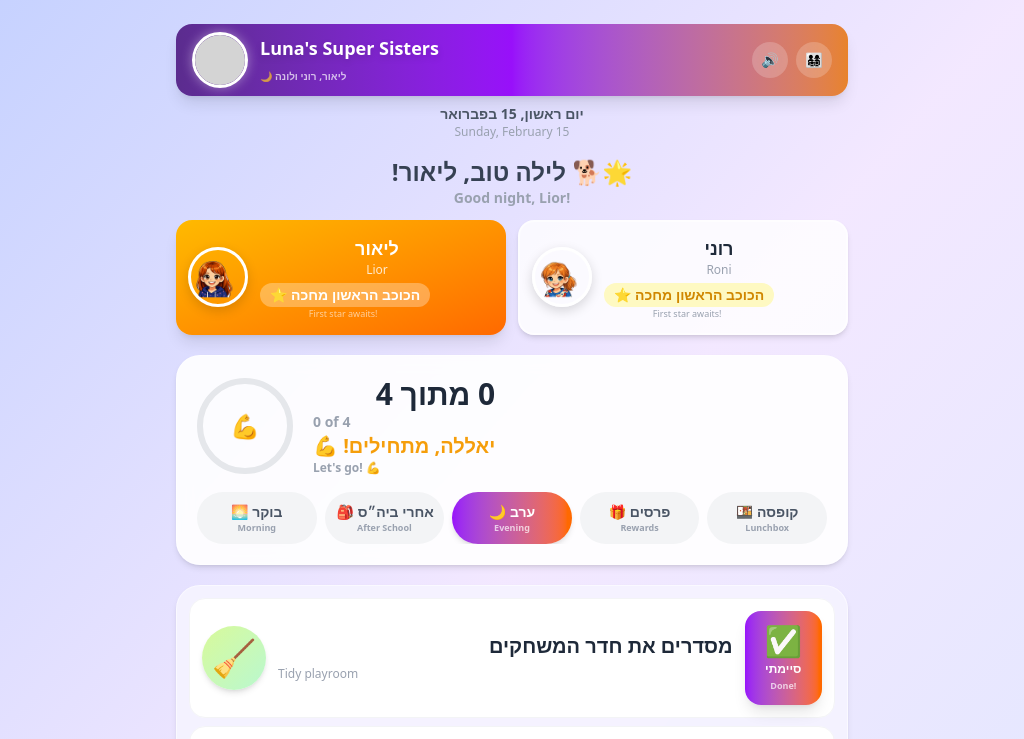
Test case: App › switches between tabs
The image size is (1024, 739).
# Click afternoon tab
Click the text "🎒 אחרי ביה״ס". click: coordinates (384, 512)
box: [337,502,432,522]
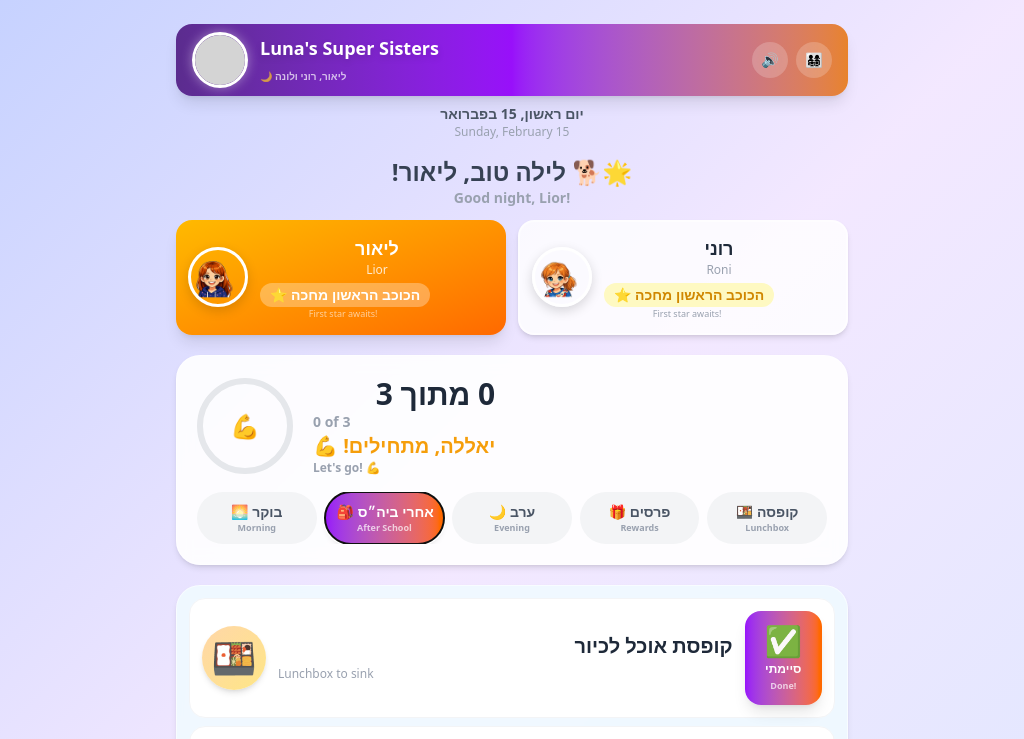
Expected: the text "Lunchbox to sink" is shown, [278,665,374,682]
# Click evening tab
Click the text "🌙 ערב". click: coordinates (512, 511)
box: [489,502,535,520]
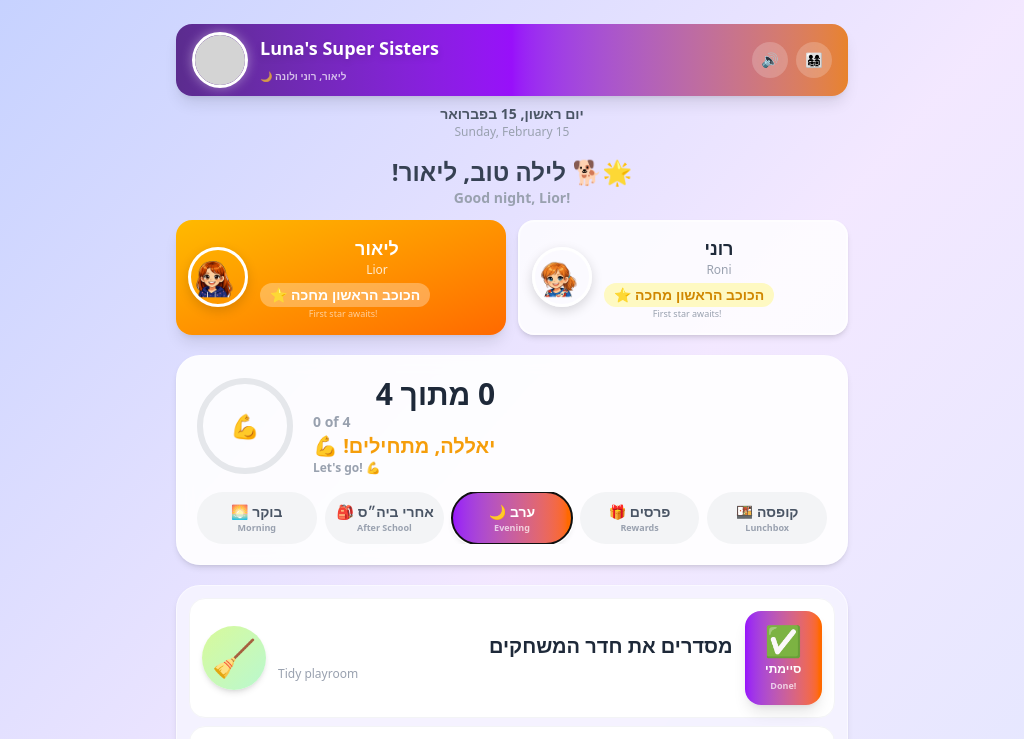
Expected: the text "Tidy playroom" is shown, [278,665,358,682]
# Click rewards tab
Click the text "🎁 פרסים". click: coordinates (640, 511)
box: [609,502,670,520]
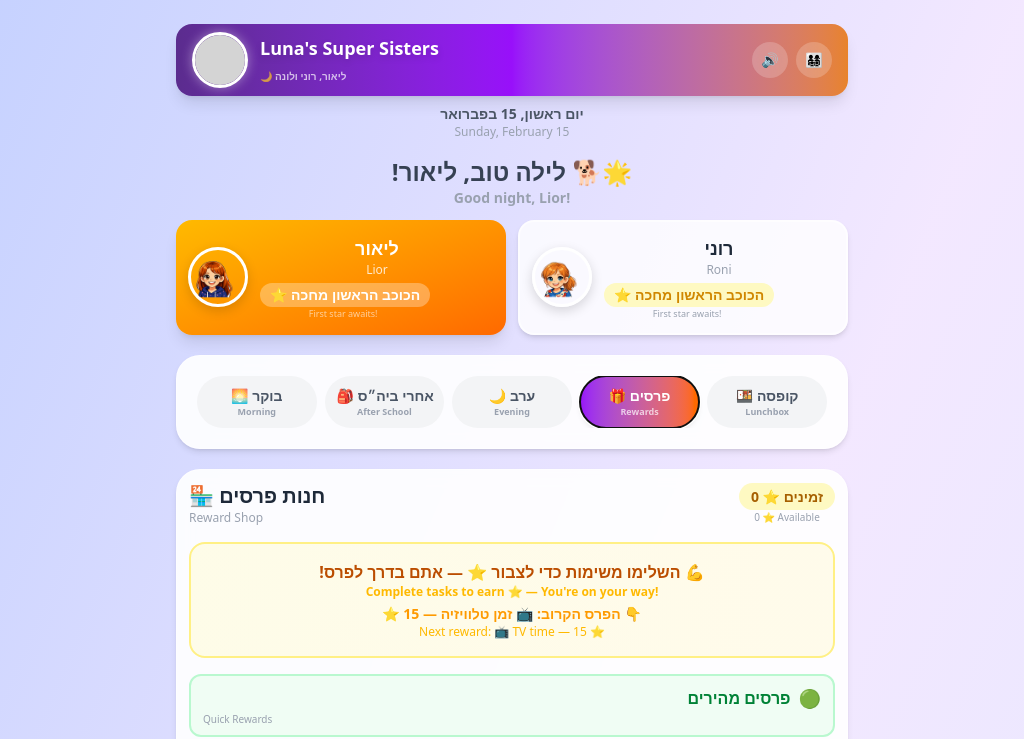
Expected: the heading "🏪 חנות פרסים" is shown, [189,482,325,510]
